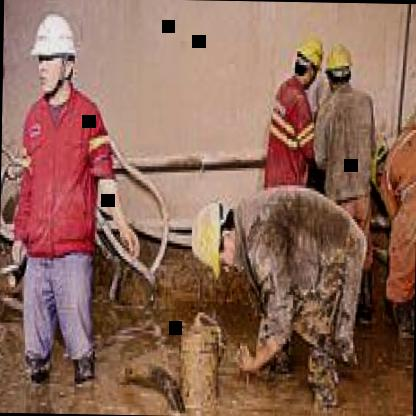helmet: (181, 191, 242, 280), (26, 8, 78, 99), (294, 29, 326, 95), (322, 43, 350, 101)
